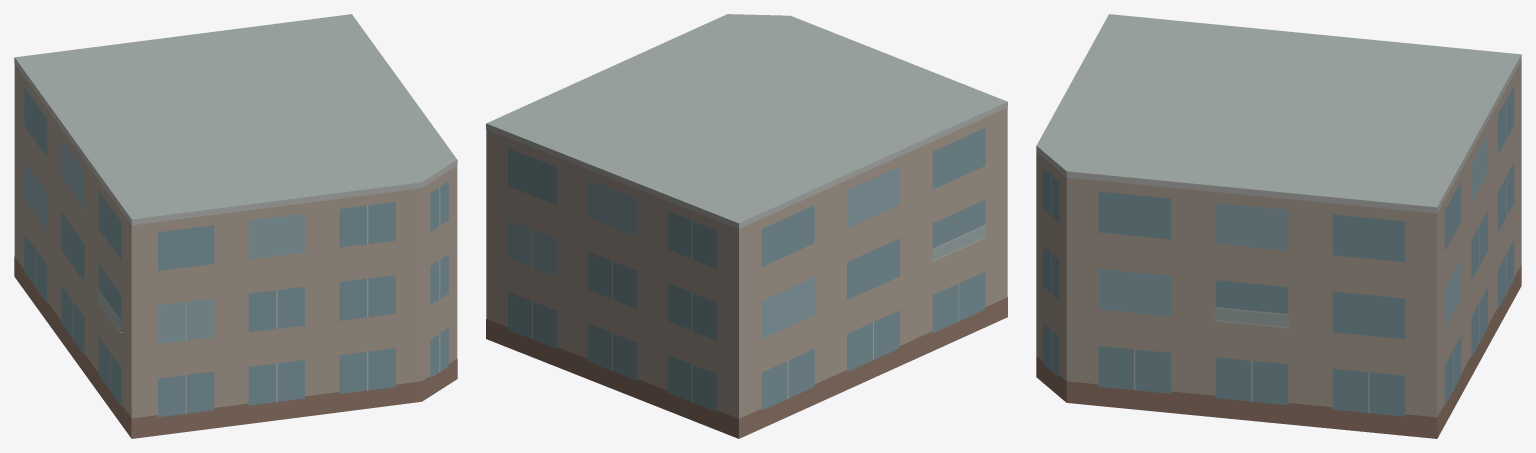
Rendered from survey-upis-32821543.glb.
3 views of the same model, side by side, from view 1: azimuth 30°, elevation 25°; view 2: azimuth 150°, elevation 25°; view 3: azimuth 270°, elevation 25° (orthographic). The views are drawn at different scales.
Parts seen in each view (by area): view 1: survey-upis-32821543.tmp; view 2: survey-upis-32821543.tmp; view 3: survey-upis-32821543.tmp.
Boxes of the visible parts, x1,y1,x2,y2 form: survey-upis-32821543.tmp: [14, 14, 457, 438]; survey-upis-32821543.tmp: [486, 14, 1007, 438]; survey-upis-32821543.tmp: [1036, 14, 1521, 438].
Bounding box in the file's own units: 16.4 × 9.15 × 17.39.
